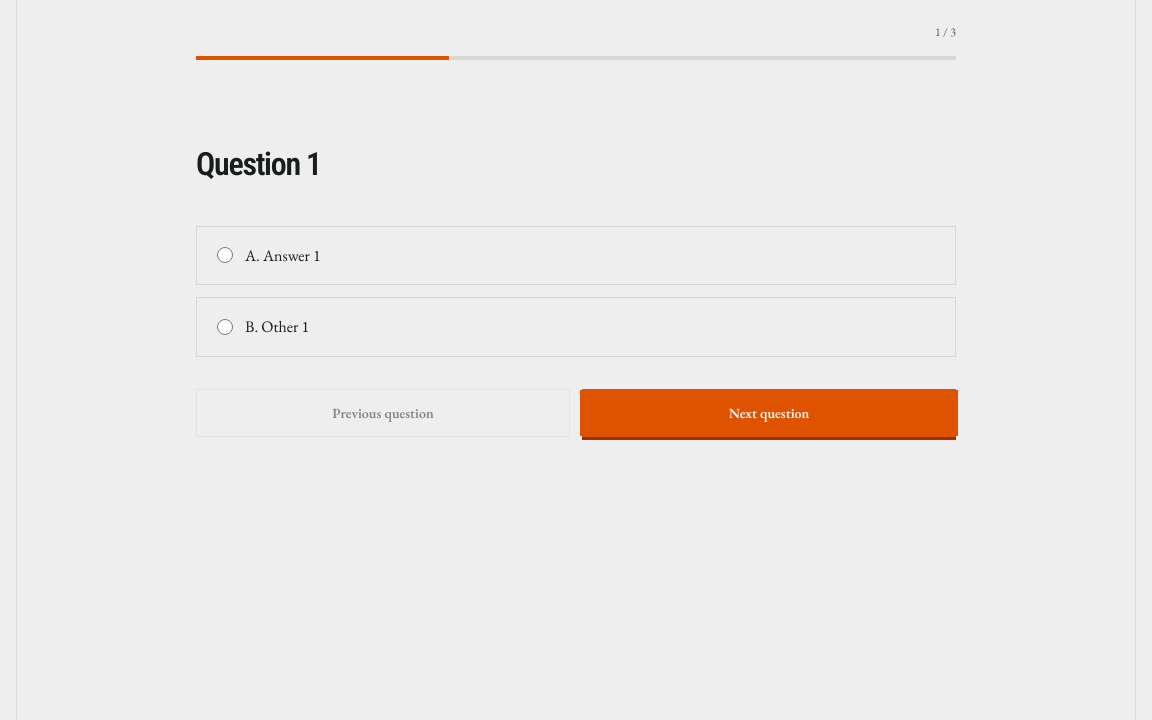
Scenario: does not invent concept gaps or remediation when absent (passed: true)
This screenshot has width=1152, height=720.
Check: the heading "Question 1" is shown, box [196, 145, 321, 183]
Click the radio button labelled "A. Answer 1" at (225, 255), box [217, 247, 233, 263]
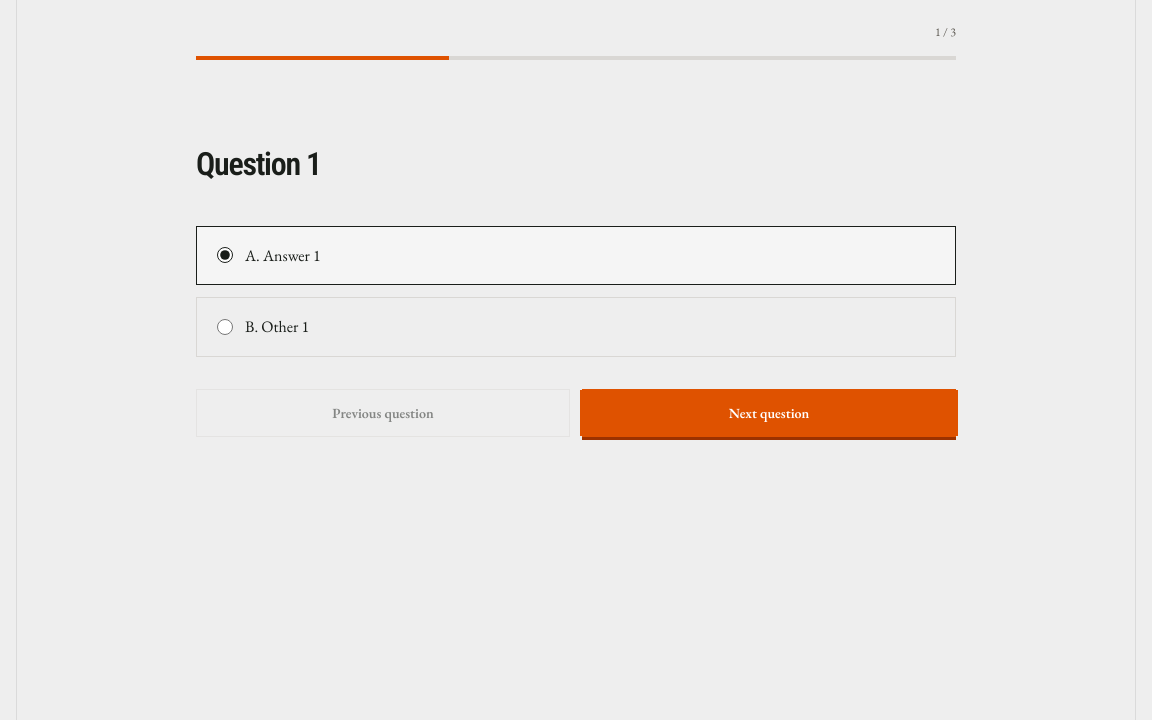
Click the button "Next question" at (769, 413), box [582, 389, 956, 437]
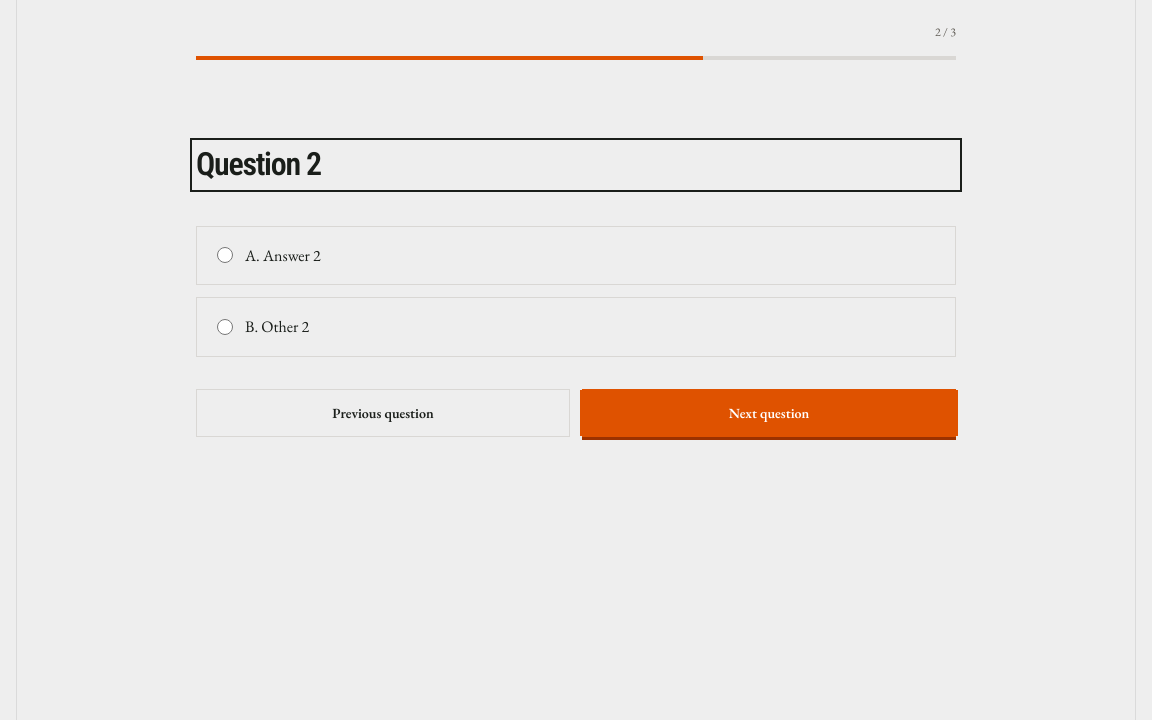
Click the radio button labelled "A. Answer 2" at (225, 255), box [217, 247, 233, 263]
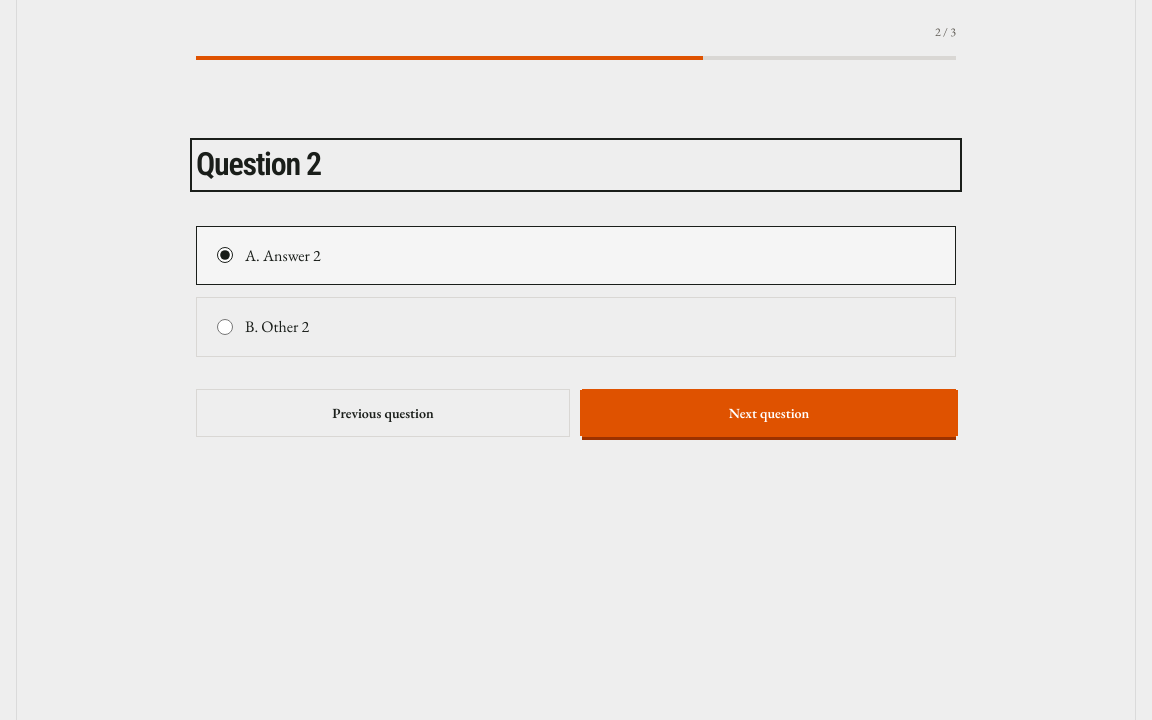
Click the button "Next question" at (769, 413), box [582, 389, 956, 437]
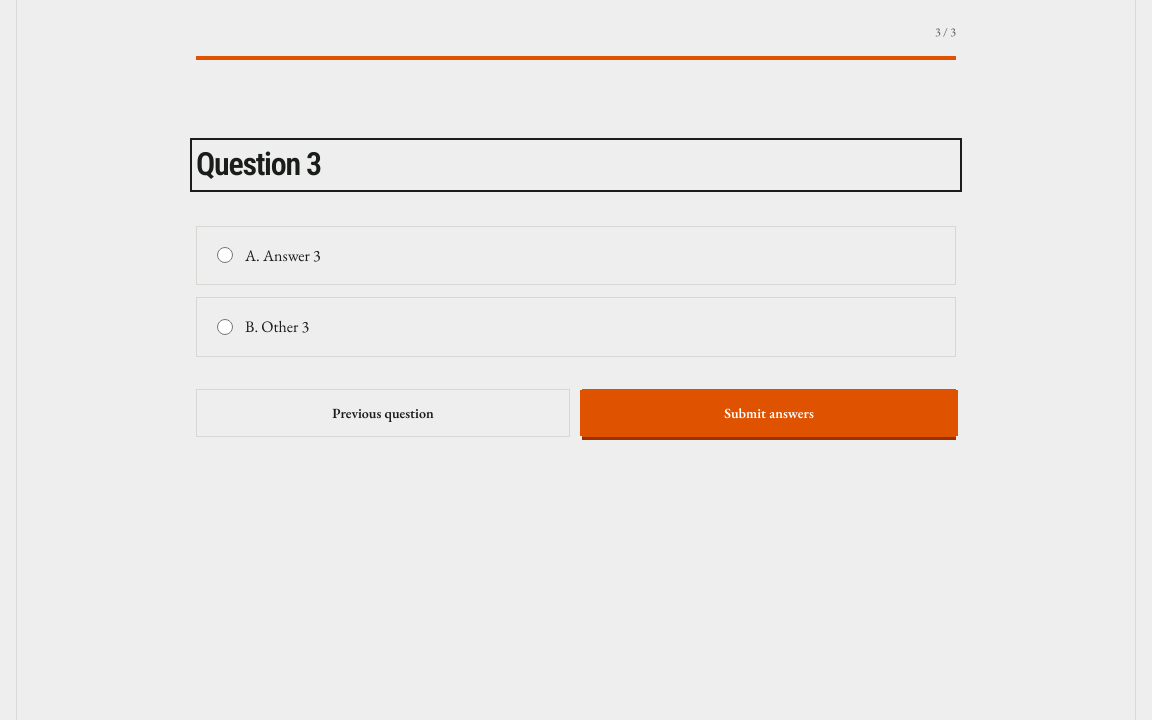
Click the radio button labelled "A. Answer 3" at (225, 255), box [217, 247, 233, 263]
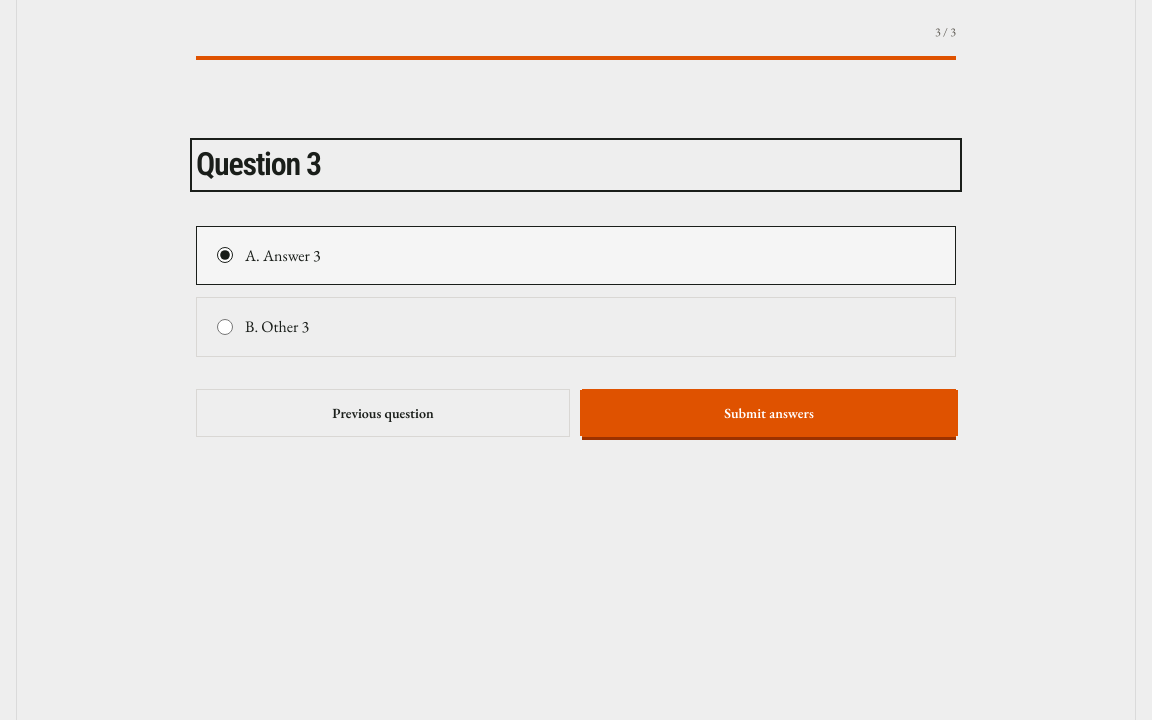
Click the button "Submit answers" at (769, 413), box [582, 389, 956, 437]
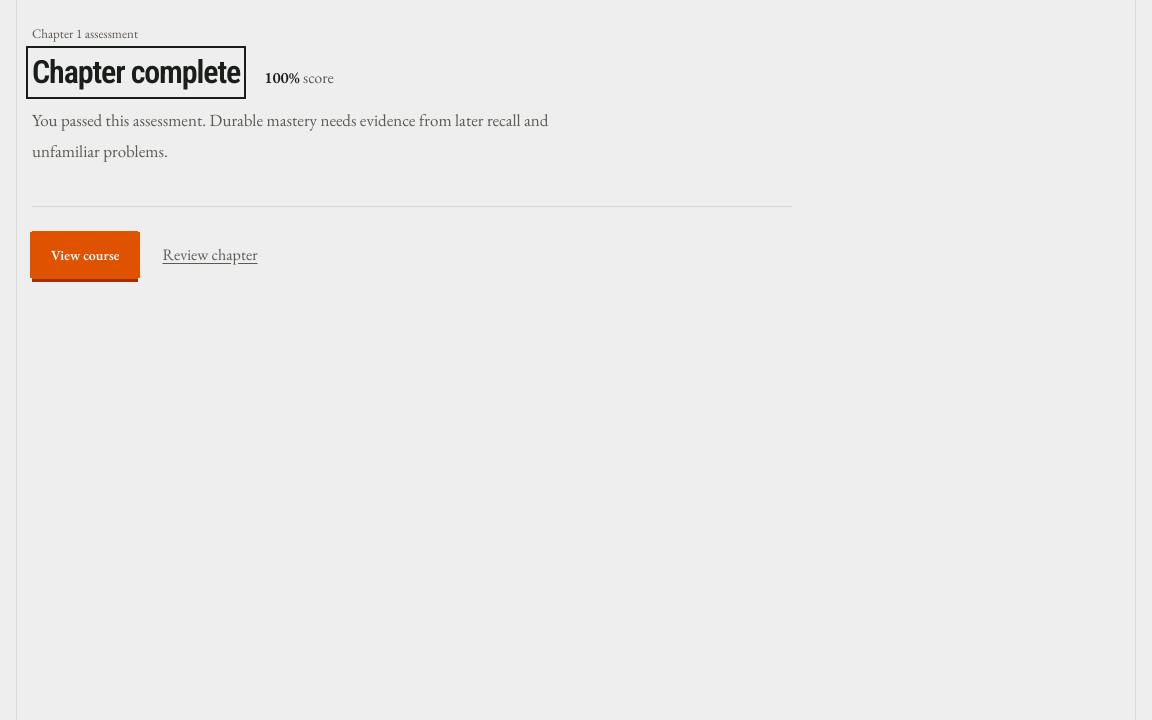
Check: the heading "Chapter complete" is shown, box [32, 52, 240, 93]
